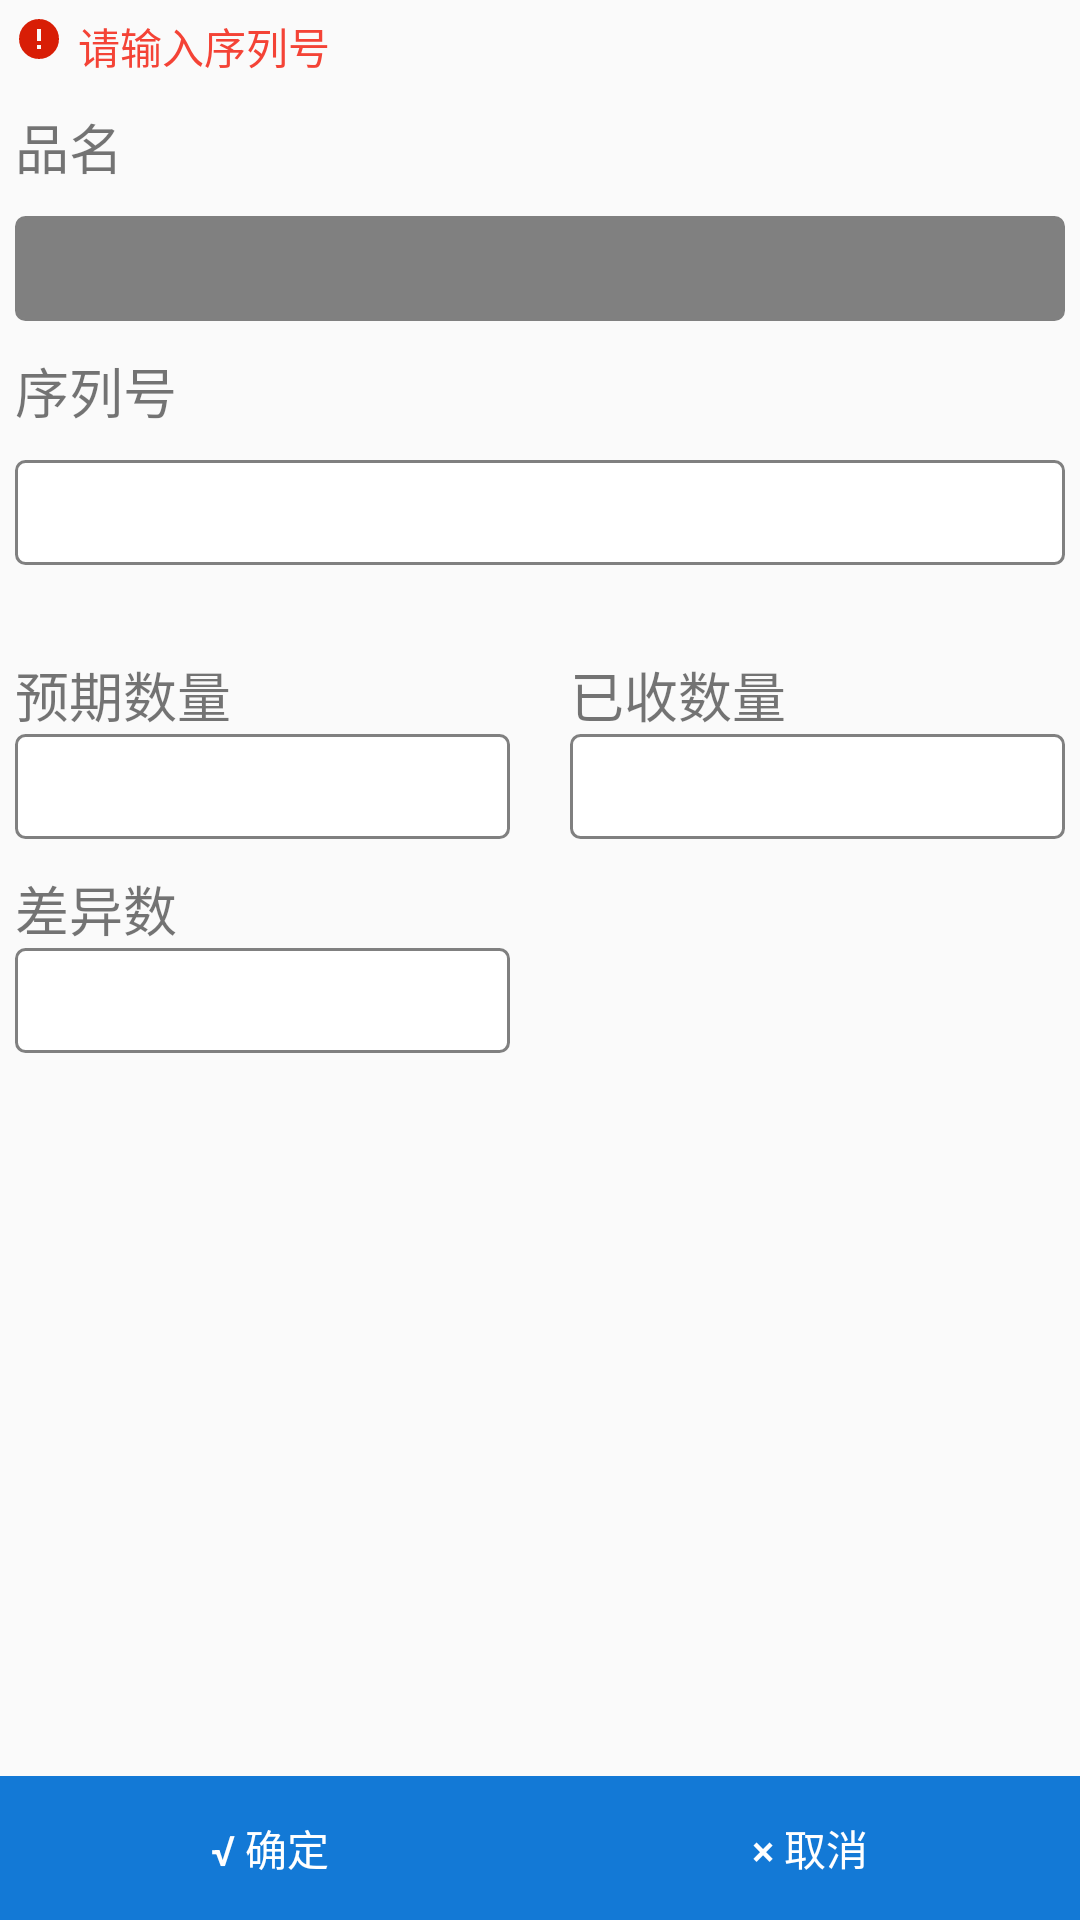

Icon bounding boxes for this 1080px x 1920px phone screenshot, format (x1, y1, x2, y2):
error: (19, 19, 59, 59)
